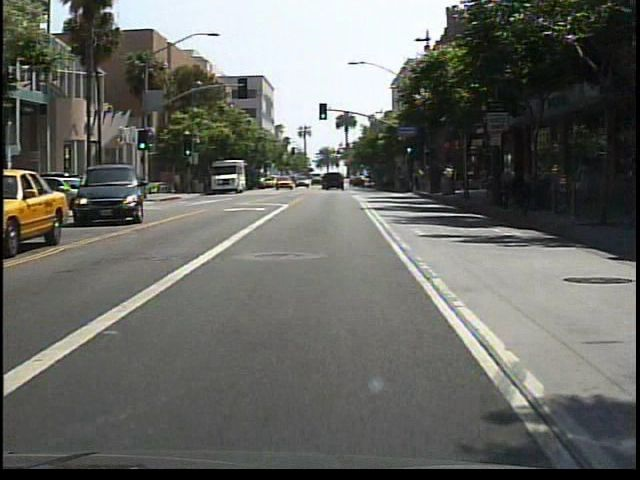person: (171, 169, 185, 195), (163, 171, 176, 195)
